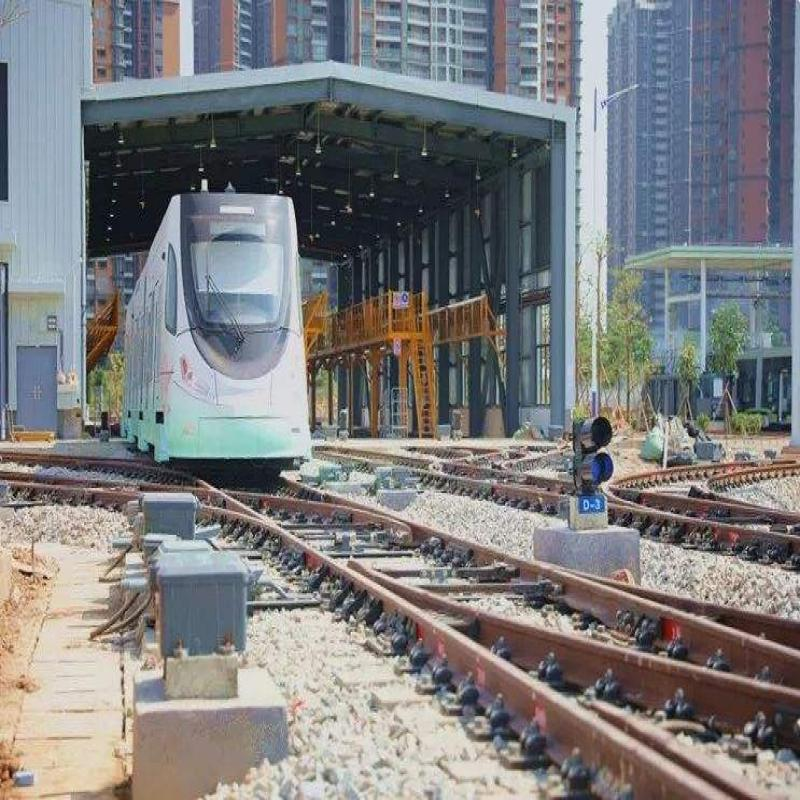train: (121, 201, 315, 478)
